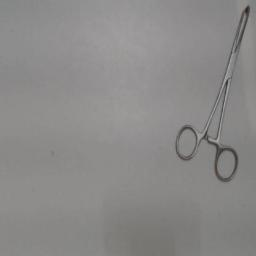Allis Tissue Forceps: (170, 1, 254, 185)
